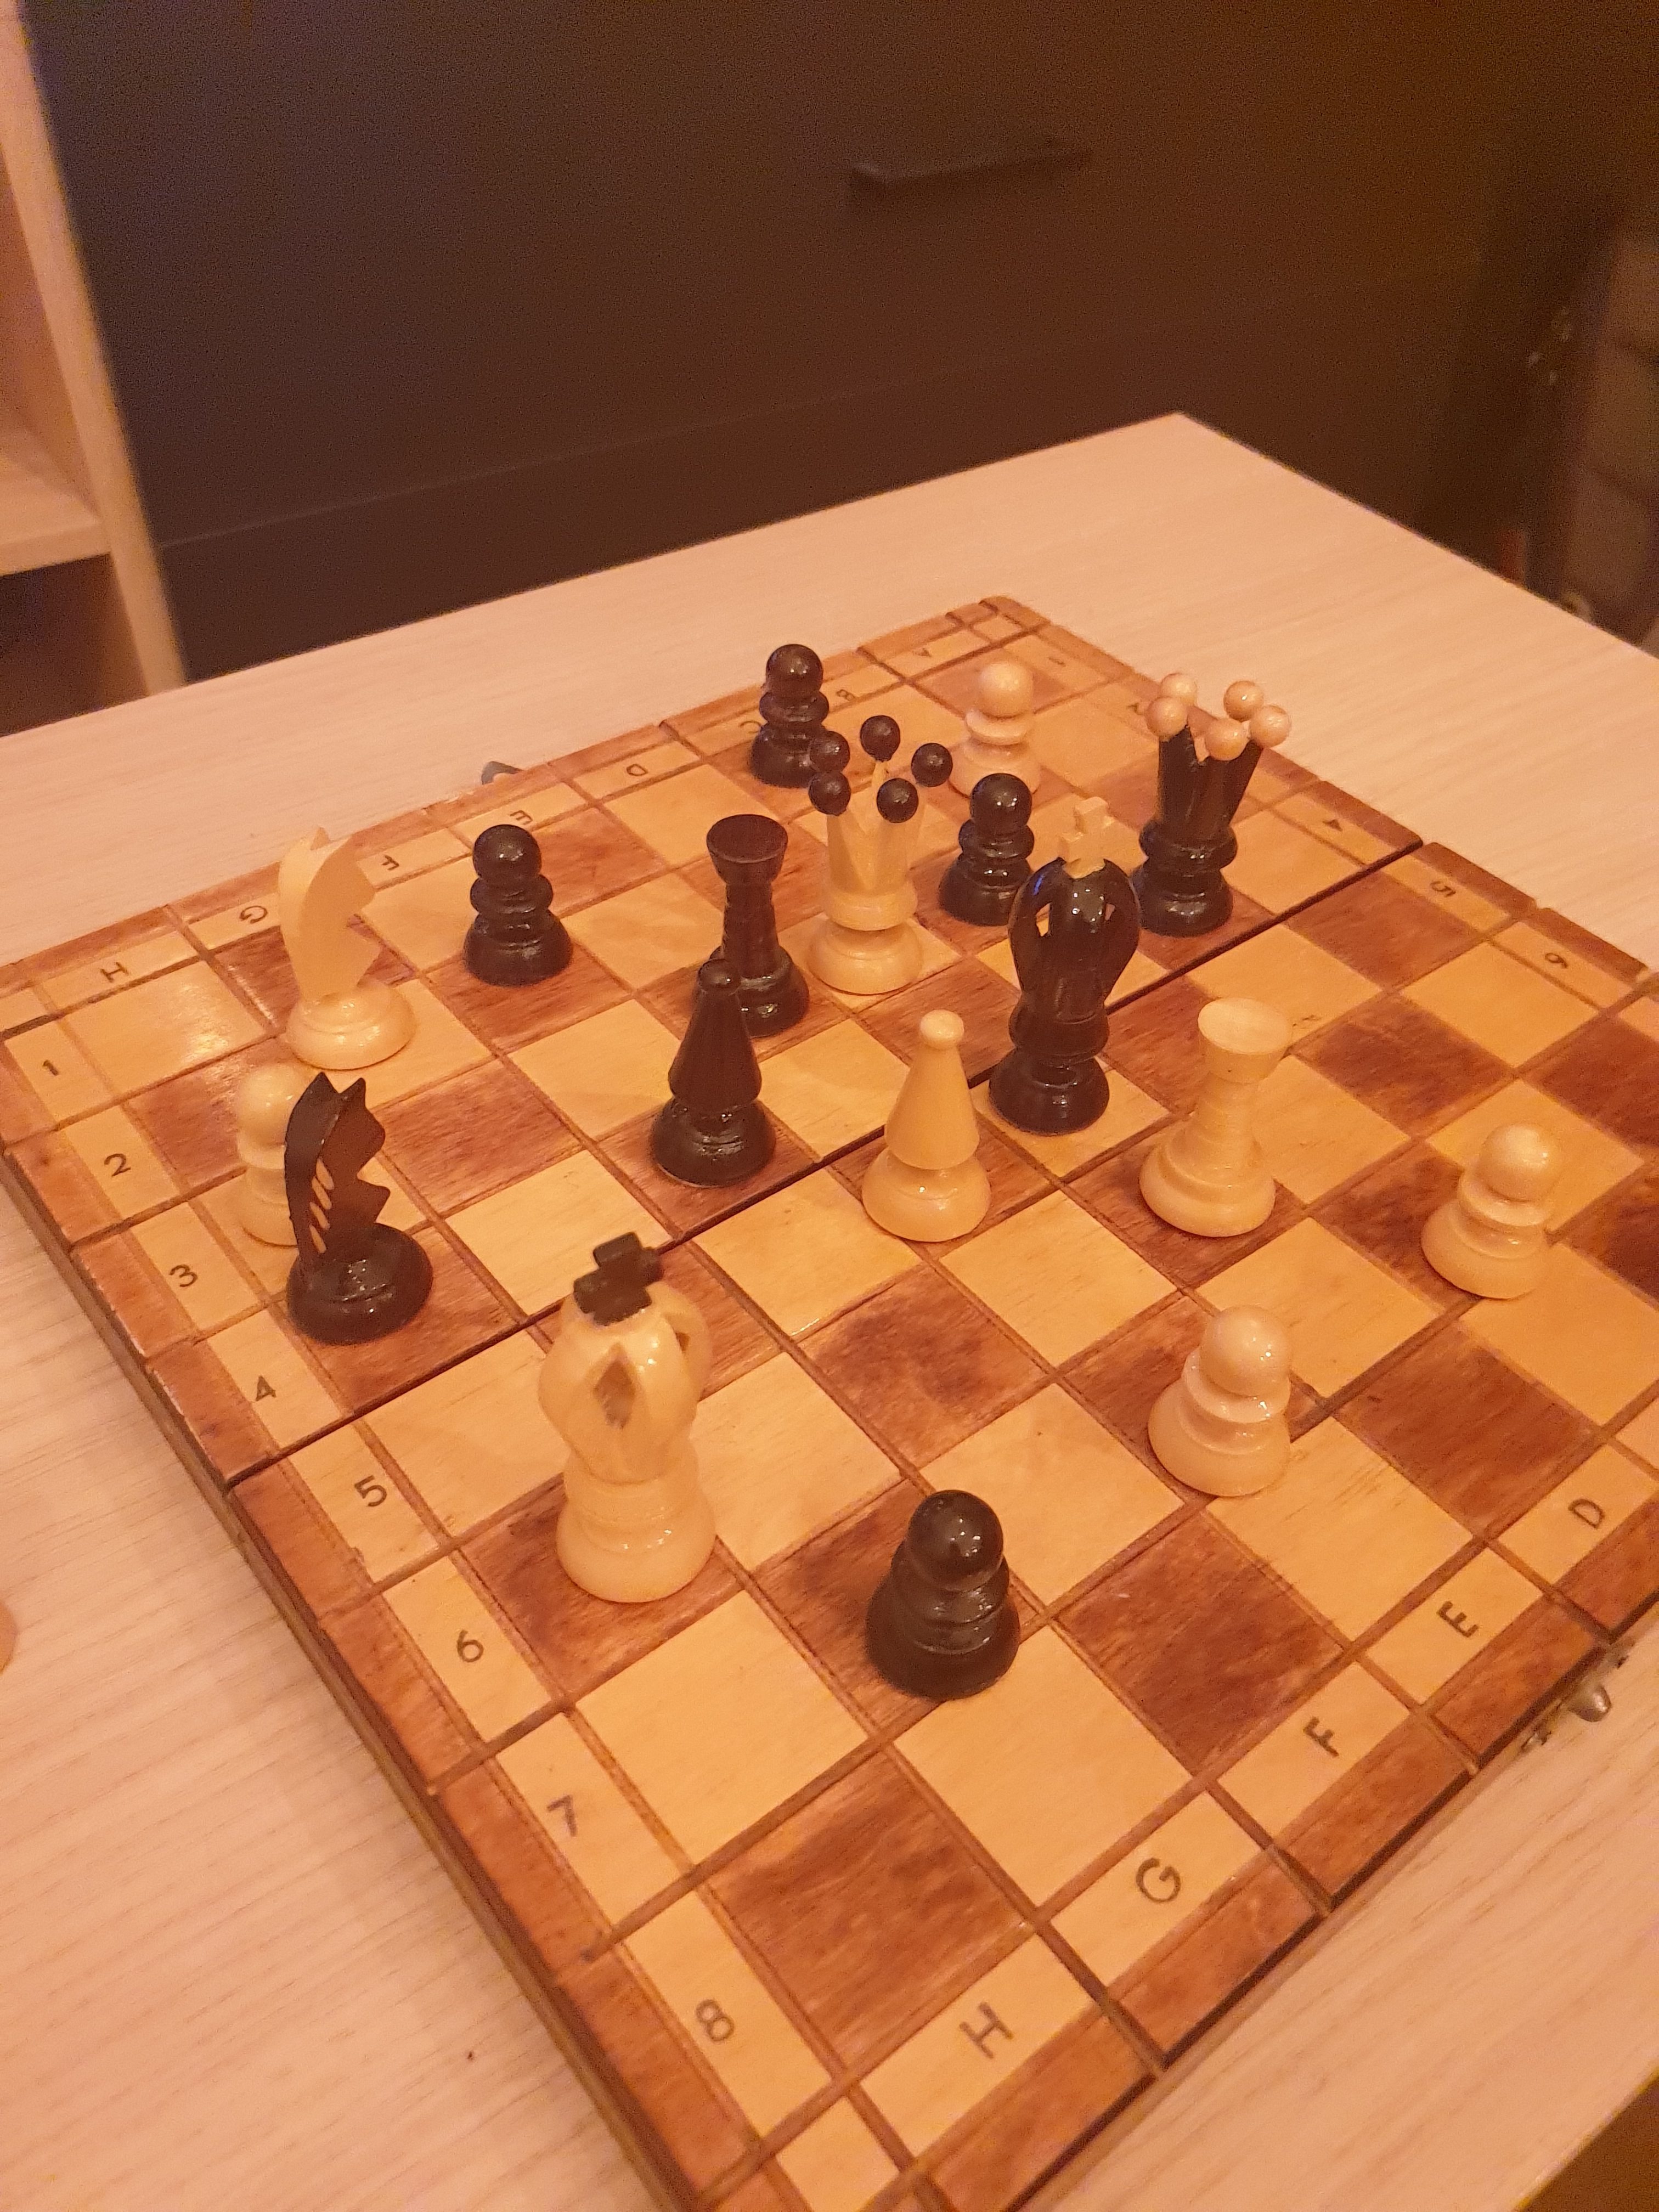bbishop: (638, 963, 793, 1200)
bking: (974, 784, 1150, 1146)
bknight: (265, 1059, 446, 1353)
bpawn: (854, 1475, 1044, 1716), (451, 817, 584, 995), (927, 763, 1053, 939), (746, 629, 847, 803)
bqueen: (1094, 643, 1298, 953)
brook: (676, 794, 838, 1052)
wbishop: (854, 988, 1014, 1254)
wking: (526, 1221, 748, 1637)
wknight: (247, 812, 430, 1083)
wpawn: (1129, 1294, 1312, 1522), (1406, 1097, 1575, 1313), (225, 1045, 357, 1264), (938, 650, 1063, 813)
wqueen: (788, 698, 962, 1010)
wrook: (1126, 977, 1298, 1238)
